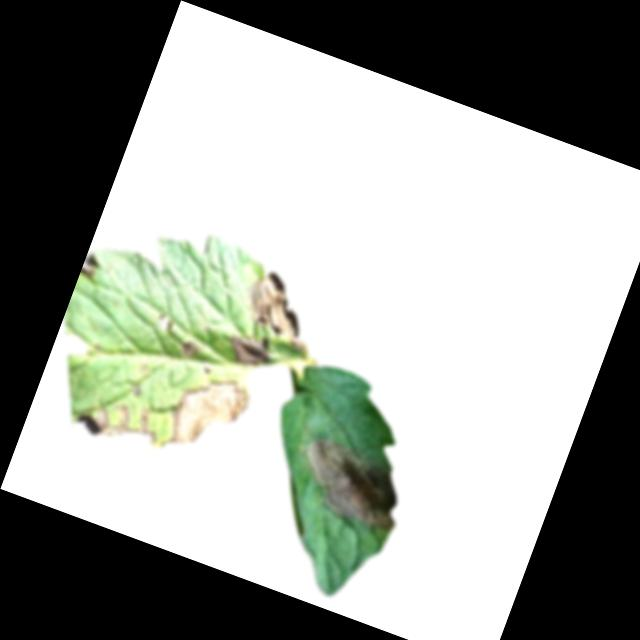Late_blight: (280, 431, 415, 542), (159, 364, 255, 468), (235, 265, 326, 353), (90, 393, 169, 454), (222, 326, 274, 375), (175, 335, 202, 363), (155, 312, 177, 334)
